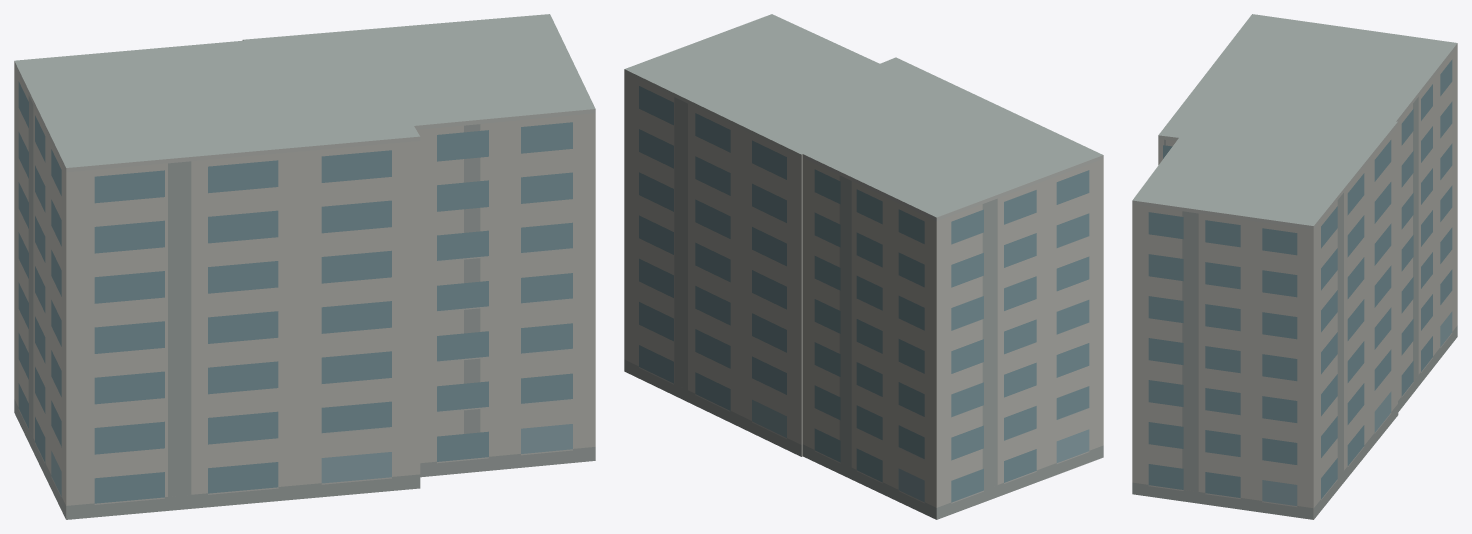
The model's file is survey-upis-32535120.glb.
3 views of the same model, side by side, from view 1: azimuth 30°, elevation 25°; view 2: azimuth 150°, elevation 25°; view 3: azimuth 270°, elevation 25° (orthographic). The views are drawn at different scales.
Visible parts, largest first — view 1: survey-upis-32535120.tmp; view 2: survey-upis-32535120.tmp; view 3: survey-upis-32535120.tmp.
Part boxes in pixels (box(x1,y1,x2,y2)): survey-upis-32535120.tmp: box(14, 14, 595, 519); survey-upis-32535120.tmp: box(624, 14, 1103, 519); survey-upis-32535120.tmp: box(1132, 14, 1457, 519).
Size of the model in its own units: 30.29 by 19.55 by 19.63.
